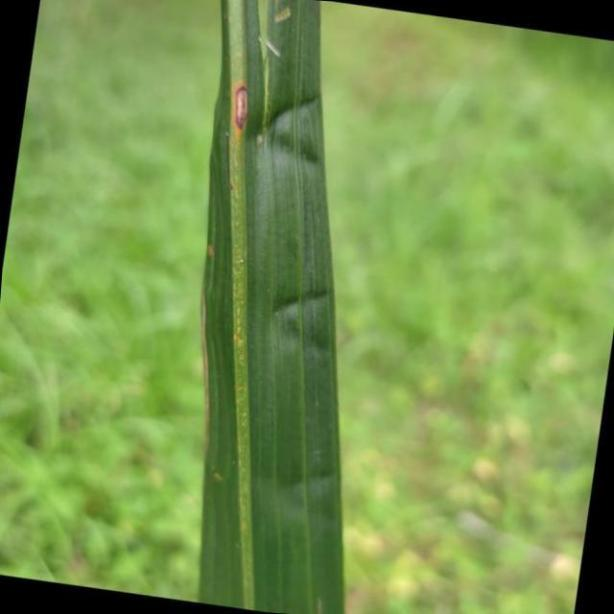Boron: (198, 0, 349, 614)
